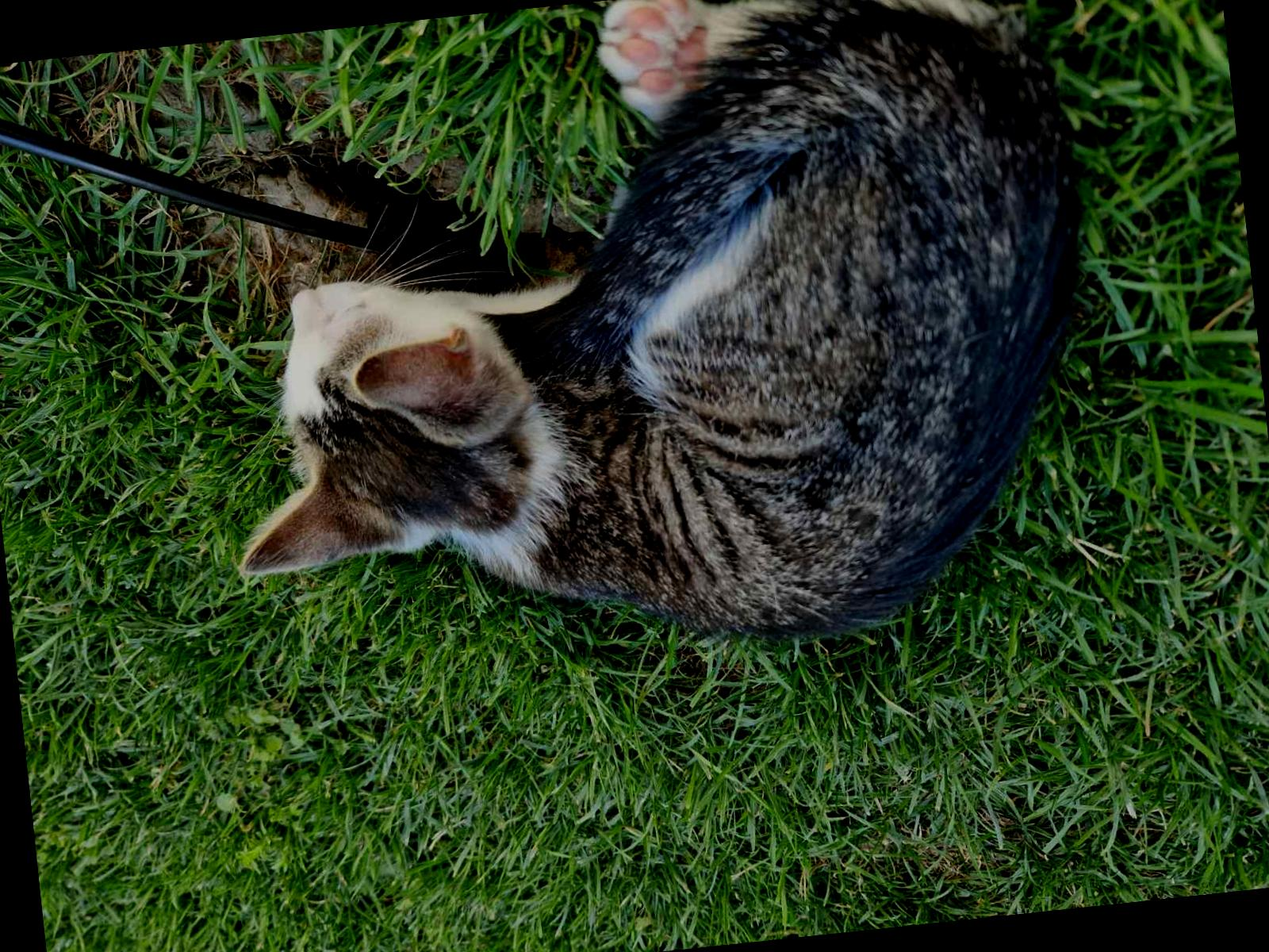macka: (181, 0, 1127, 703)
